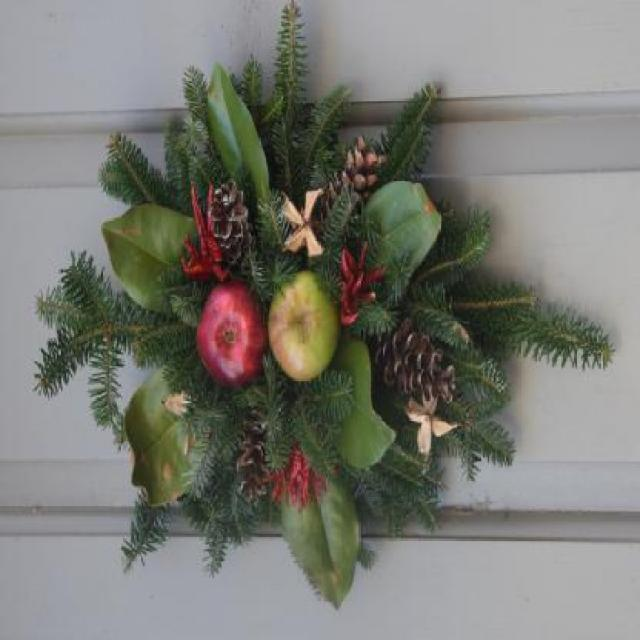Apple pie: (265, 272, 341, 384), (198, 278, 264, 402)
